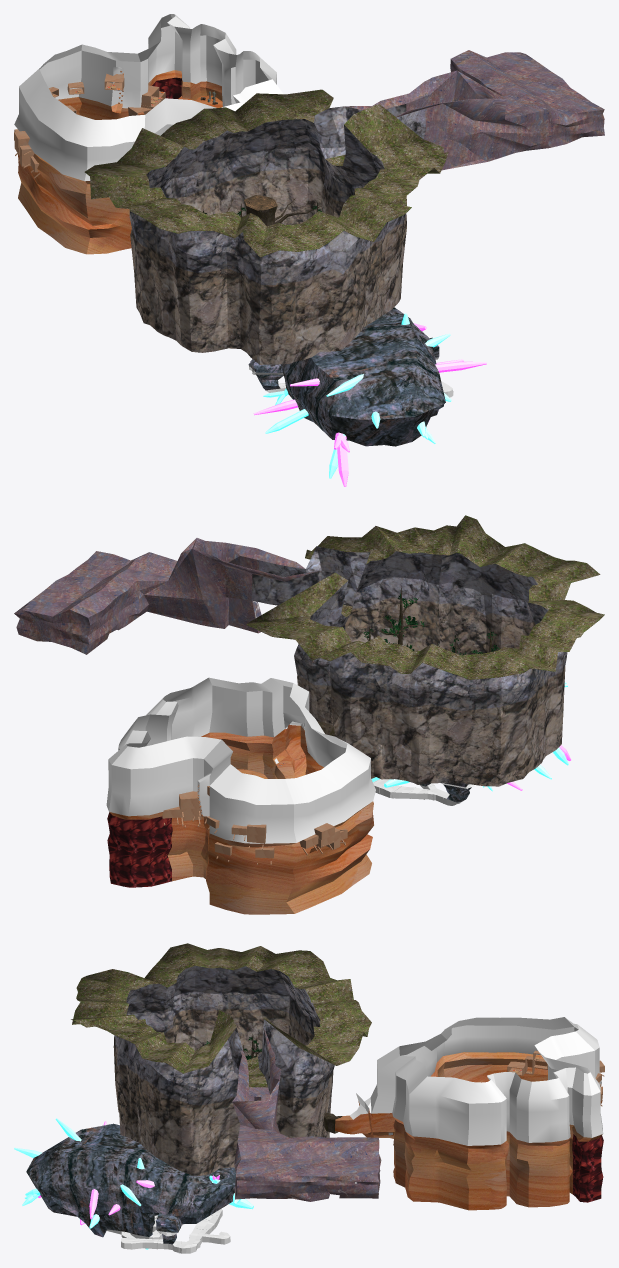
File: gorilla_tag_map.glb
3 renders of one model, top to bottom at view 1: azimuth 30°, elevation 25°; view 2: azimuth 150°, elevation 25°; view 3: azimuth 270°, elevation 25°, orthographic. The views are drawn at different scales.
Parts seen in each view (by area): view 1: Forest_fixed_pitwall.001_0_264, Forest_fixed_pitground.001_0_263, Forest_fixed_rockwall2.001_0_265, canyon_fixed_canyon5.002_0_853, Forest_fixed_caverock.001_0_266, Cave_fixed_cavewall1_0_17, canyon_fixed_canyon1.002_0_852; view 2: canyon_fixed_canyon5.002_0_853, Forest_fixed_pitwall.001_0_264, Forest_fixed_rockwall2.001_0_265, Forest_fixed_pitground.001_0_263, Forest_fixed_caverock.001_0_266, canyon_fixed_canyon1.002_0_852, canyon_fixed_canyon3.001_0_854, Cave_fixed_minewall_0_20, canyon_entrance_canyon1.002_0_443; view 3: canyon_fixed_canyon5.002_0_853, Forest_fixed_pitground.001_0_263, Forest_fixed_rockwall2.001_0_265, canyon_fixed_canyon1.002_0_852, Forest_fixed_pitwall.001_0_264, Cave_fixed_cavewall1_0_17, Forest_fixed_caverock.001_0_266, Cave_fixed_minewall_0_20, canyon_fixed_canyon3.001_0_854, canyon_entrance_canyon1.002_0_443.
Part boxes in pixels (x1=…): Forest_fixed_pitwall.001_0_264: x1=130, y1=168, x2=406, y2=364; Forest_fixed_pitground.001_0_263: x1=84, y1=89, x2=448, y2=257; Forest_fixed_rockwall2.001_0_265: x1=129, y1=104, x2=425, y2=285; canyon_fixed_canyon5.002_0_853: x1=14, y1=14, x2=283, y2=181; Forest_fixed_caverock.001_0_266: x1=346, y1=50, x2=604, y2=170; Cave_fixed_cavewall1_0_17: x1=248, y1=307, x2=445, y2=446; canyon_fixed_canyon1.002_0_852: x1=18, y1=70, x2=222, y2=254; canyon_fixed_canyon5.002_0_853: x1=106, y1=677, x2=375, y2=843; Forest_fixed_pitwall.001_0_264: x1=297, y1=597, x2=565, y2=786; Forest_fixed_rockwall2.001_0_265: x1=251, y1=546, x2=567, y2=710; Forest_fixed_pitground.001_0_263: x1=246, y1=515, x2=604, y2=679; Forest_fixed_caverock.001_0_266: x1=14, y1=538, x2=318, y2=654; canyon_fixed_canyon1.002_0_852: x1=109, y1=729, x2=373, y2=914; canyon_fixed_canyon3.001_0_854: x1=107, y1=812, x2=172, y2=887; Cave_fixed_minewall_0_20: x1=373, y1=779, x2=464, y2=805; canyon_entrance_canyon1.002_0_443: x1=285, y1=724, x2=306, y2=760; canyon_fixed_canyon5.002_0_853: x1=360, y1=1017, x2=603, y2=1145; Forest_fixed_pitground.001_0_263: x1=71, y1=943, x2=371, y2=1087; Forest_fixed_rockwall2.001_0_265: x1=114, y1=965, x2=334, y2=1105; canyon_fixed_canyon1.002_0_852: x1=368, y1=1052, x2=602, y2=1210; Forest_fixed_pitwall.001_0_264: x1=113, y1=1008, x2=333, y2=1175; Cave_fixed_cavewall1_0_17: x1=26, y1=1123, x2=236, y2=1244; Forest_fixed_caverock.001_0_266: x1=232, y1=1027, x2=381, y2=1201; Cave_fixed_minewall_0_20: x1=106, y1=1209, x2=230, y2=1253; canyon_fixed_canyon3.001_0_854: x1=572, y1=1134, x2=603, y2=1202; canyon_entrance_canyon1.002_0_443: x1=335, y1=1101, x2=373, y2=1137.
Size of the model in its own units: 152 by 78.24 by 179.
Materials: 69 (31 with a texture image).
